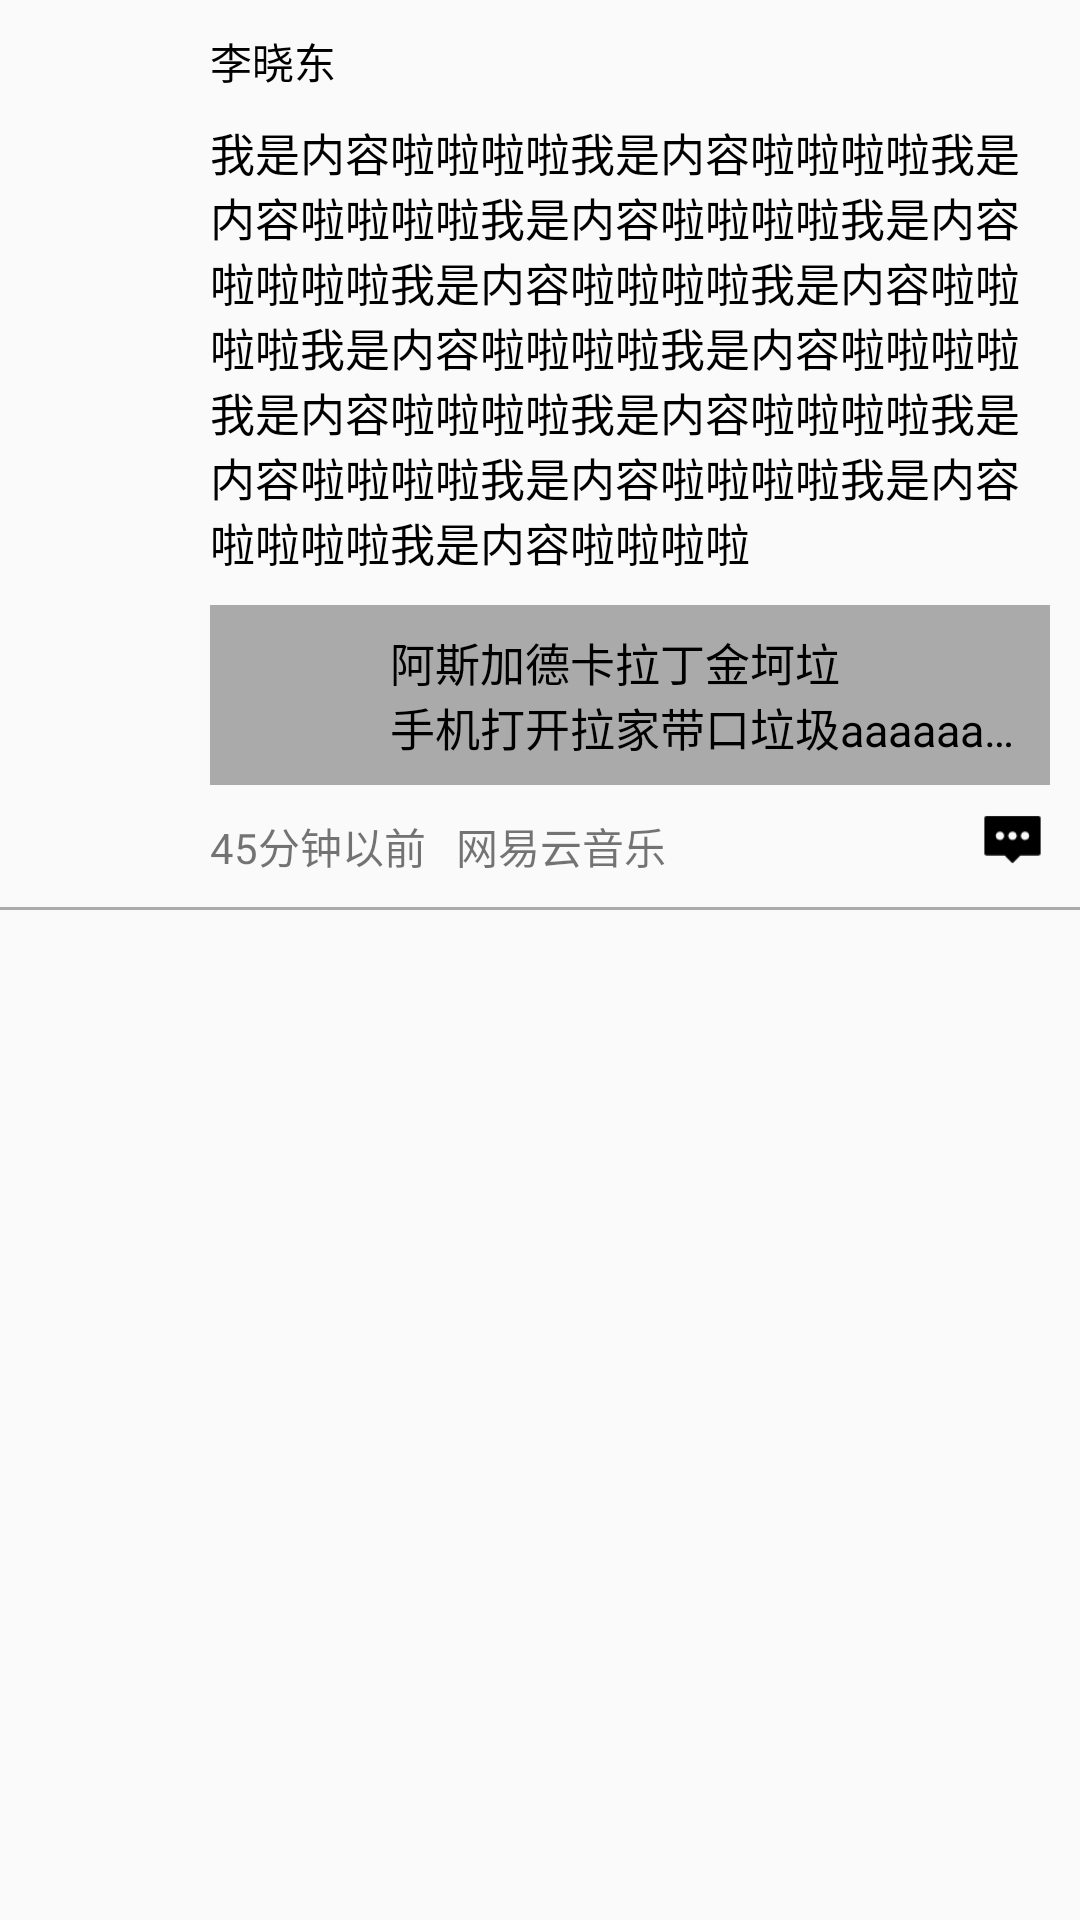

Named icons in this screenshot (1080x1920) and their bounding boxes, (x1,y1,x2,y2):
comment: (984,816,1041,863)
